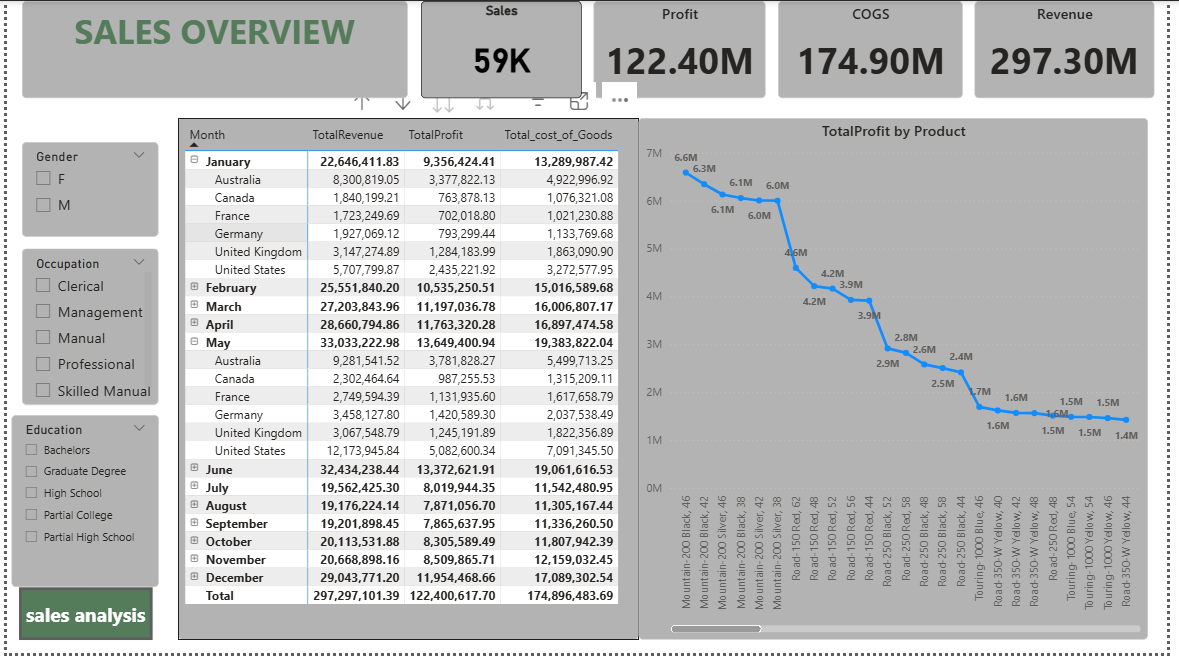

This screenshot's page, from the dashboard's own definition file:
{"tool":"powerbi","page":{"name":"Sales overview ","canvas":[1280,720],"ordinal":0},"visuals":[{"type":"card","title":"Revenue","fields":{"Values":["SalesTable.TotalRevenue"]},"box":[1068.6,0,198.6,107.1],"z":0},{"type":"card","title":"Profit","fields":{"Values":["SalesTable.TotalProfit"]},"box":[647.1,0,190,107.1],"z":1000},{"type":"card","title":"COGS","fields":{"Values":["SalesTable.Total_cost_of_Goods"]},"box":[850.7,0,204.3,107.1],"z":2000},{"type":"pivotTable","fields":{"Rows":["SalesTable.OrderDate.Variation.Date Hierarchy.Month","Geography.Country"],"Values":["SalesTable.TotalRevenue","SalesTable.TotalProfit","SalesTable.Total_cost_of_Goods"]},"box":[188.1,128.8,508.5,576.3],"z":3000},{"type":"lineChart","fields":{"Category":["Product.Product"],"Y":["SalesTable.TotalProfit"]},"box":[696.6,128.8,562.7,576.3],"z":4000},{"type":"textbox","box":[17.1,0,425.7,107.1],"z":5000},{"type":"card","title":"Sales","fields":{"Values":["Customer.Totalsales"]},"box":[456.4,0,177.1,107.1],"z":6000},{"type":"slicer","fields":{"Values":["Customer.Occupation"]},"box":[16.9,272.9,150.8,172.9],"z":7000},{"type":"slicer","fields":{"Values":["Customer.Education"]},"box":[5.1,457.6,162.7,189.8],"z":8000},{"type":"actionButton","box":[13.3,647.7,147.4,58],"z":9000},{"type":"slicer","fields":{"Values":["Customer.Gender"]},"box":[16.6,155.7,150.7,104.4],"z":10000}]}

Visuals, with their boxes in screenshot pixels (x1, y1, x2, y2), scaled from the page's 1280x720 canvas onto the 1179x661 screenshot:
"Revenue" card: [left=984, top=0, right=1167, bottom=98]
"Profit" card: [left=596, top=0, right=771, bottom=98]
"COGS" card: [left=784, top=0, right=972, bottom=98]
pivotTable - SalesTable.OrderDate.Variation.Date Hierarchy.Month x Geography.Country: [left=173, top=118, right=642, bottom=647]
lineChart - Product.Product x SalesTable.TotalProfit: [left=642, top=118, right=1160, bottom=647]
textbox: [left=16, top=0, right=408, bottom=98]
"Sales" card: [left=420, top=0, right=584, bottom=98]
slicer - Customer.Occupation: [left=16, top=251, right=154, bottom=409]
slicer - Customer.Education: [left=5, top=420, right=155, bottom=594]
actionButton: [left=12, top=595, right=148, bottom=648]
slicer - Customer.Gender: [left=15, top=143, right=154, bottom=239]
